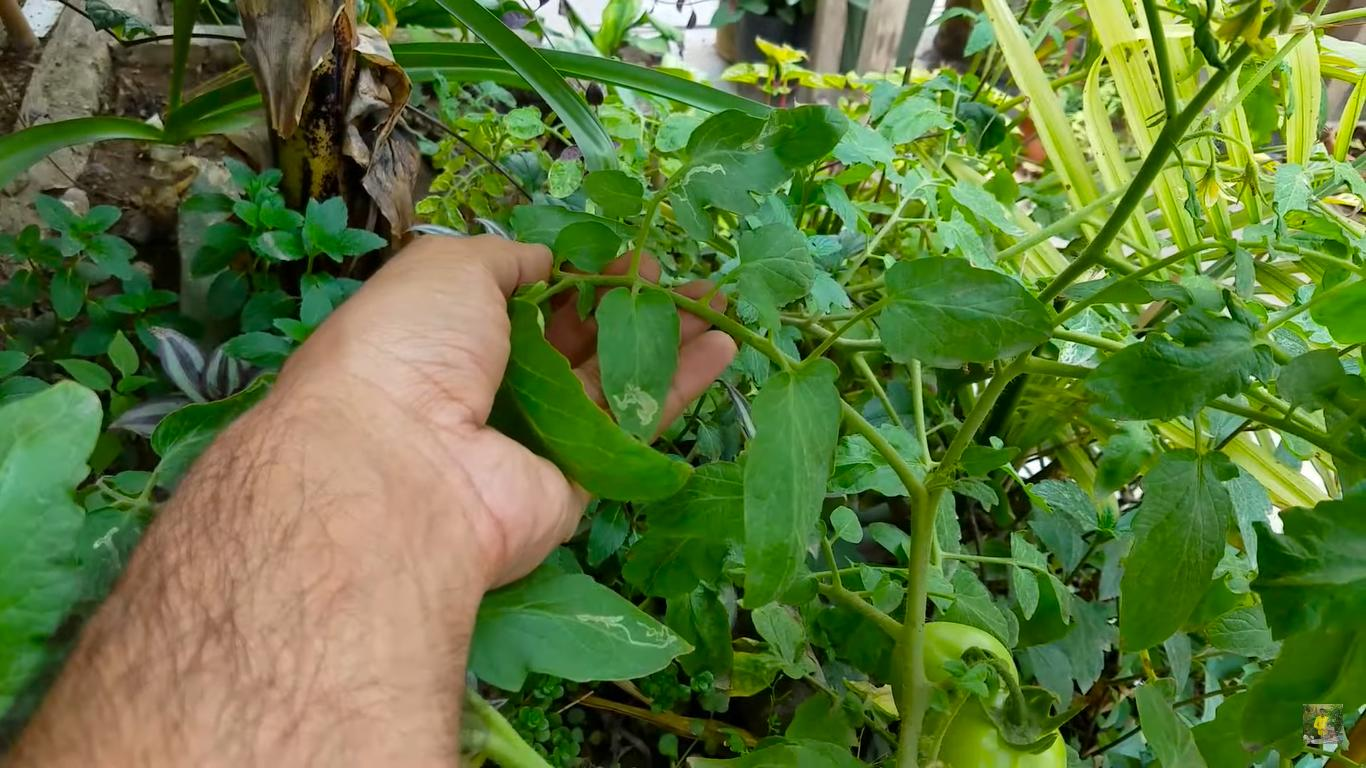Healthy: (504, 296, 698, 505), (736, 356, 843, 609), (1115, 446, 1241, 655), (1082, 307, 1275, 425), (875, 254, 1055, 371), (735, 219, 818, 331), (554, 221, 624, 274), (582, 169, 645, 220)
Leaf_Miner: (473, 545, 699, 695), (665, 100, 849, 246), (595, 285, 683, 445)
